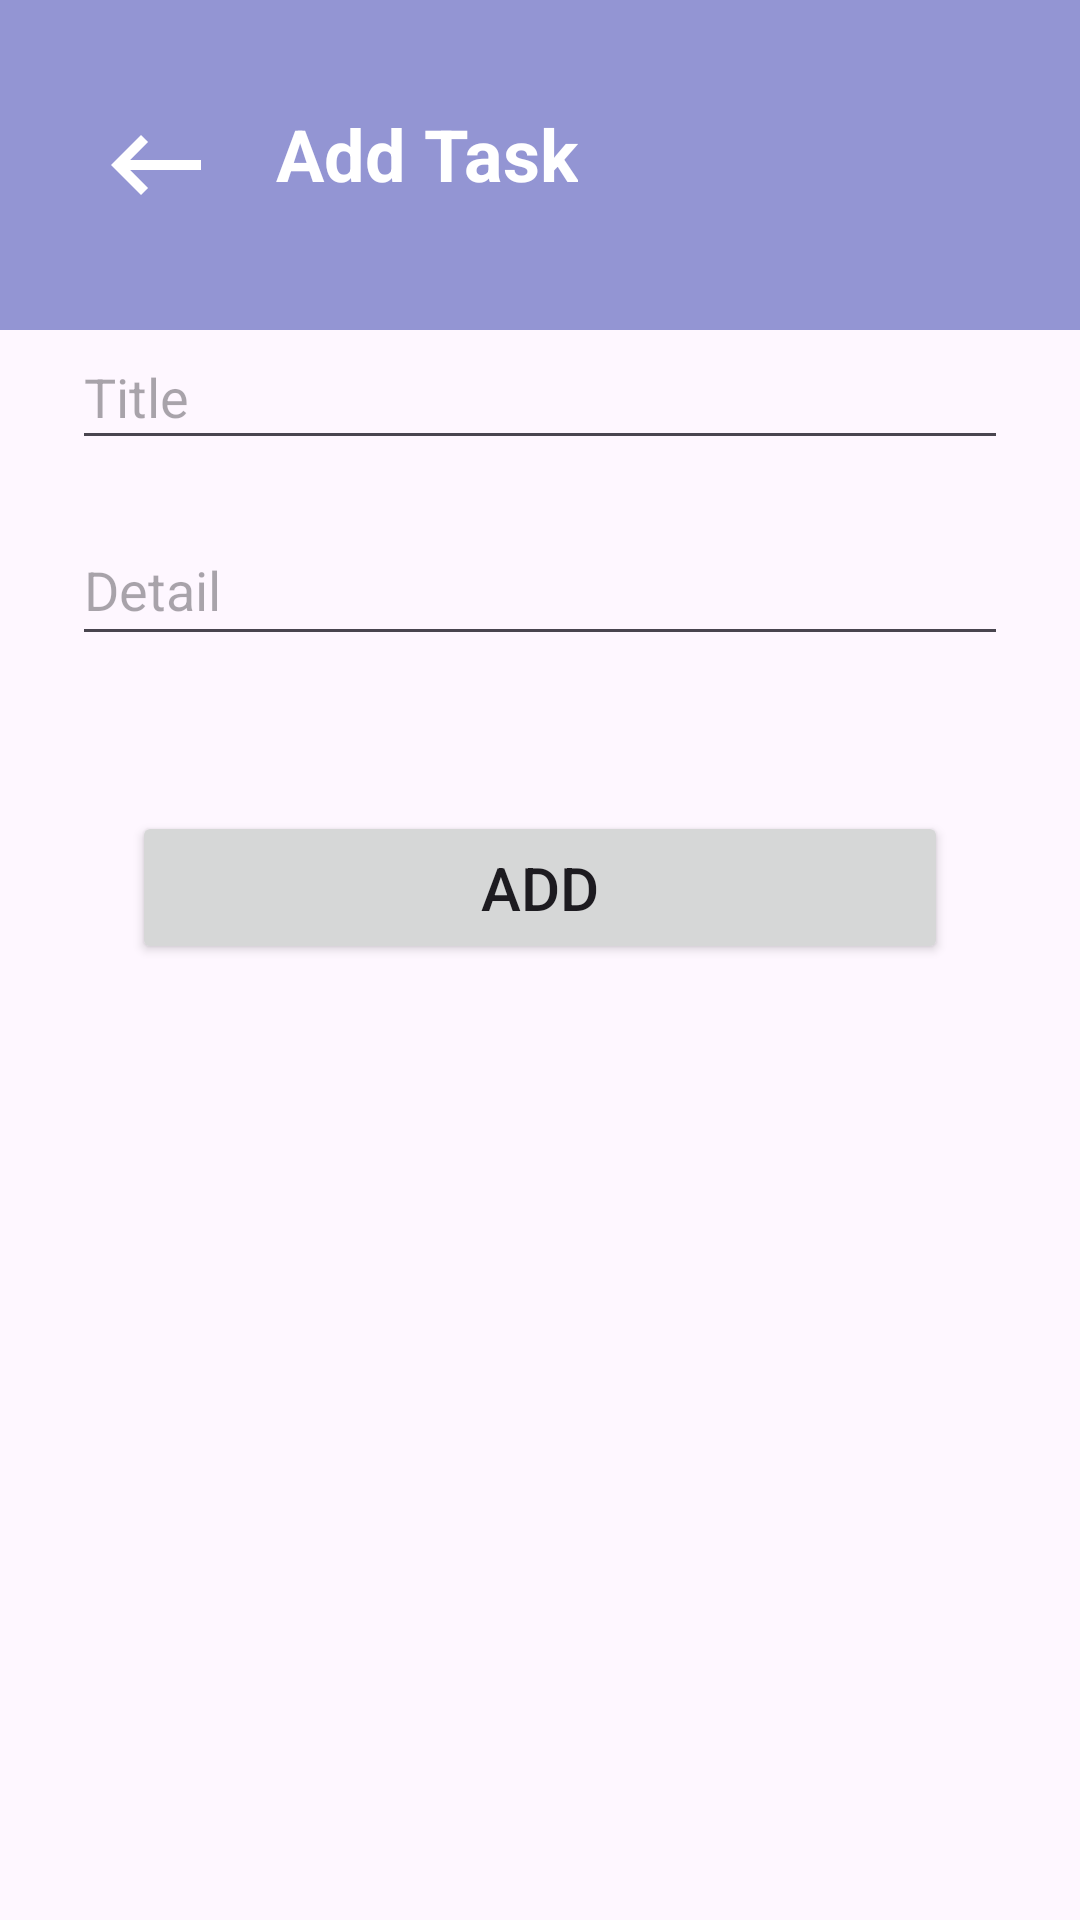

Point at icon controls on the screen. Image size 1080px x 1920px, points as [x,y].
keyboard backspace: [156,165]
